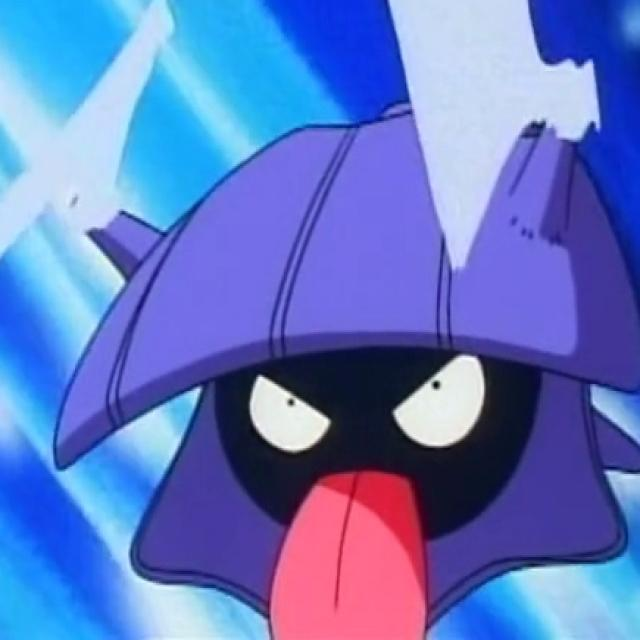Shellder: (80, 105, 634, 594)
